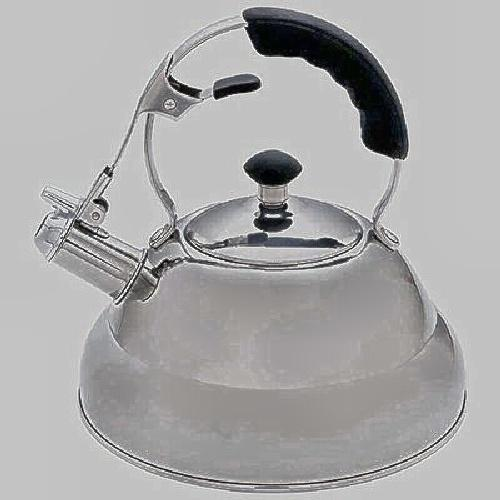kettle: (59, 37, 470, 472)
